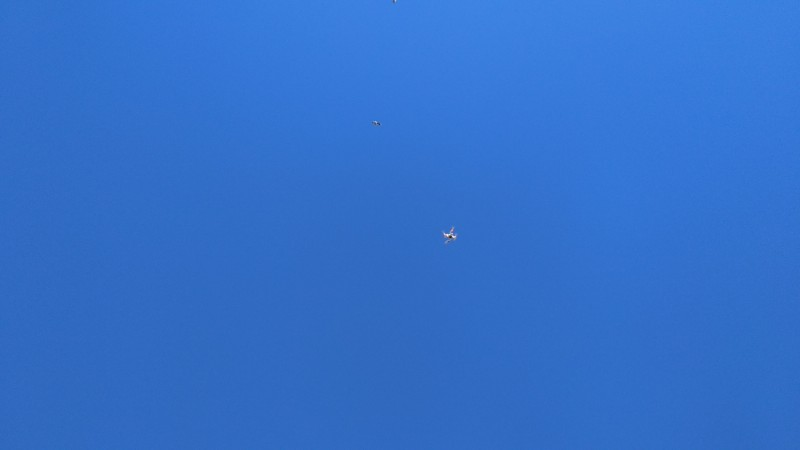drone: (441, 224, 459, 245)
